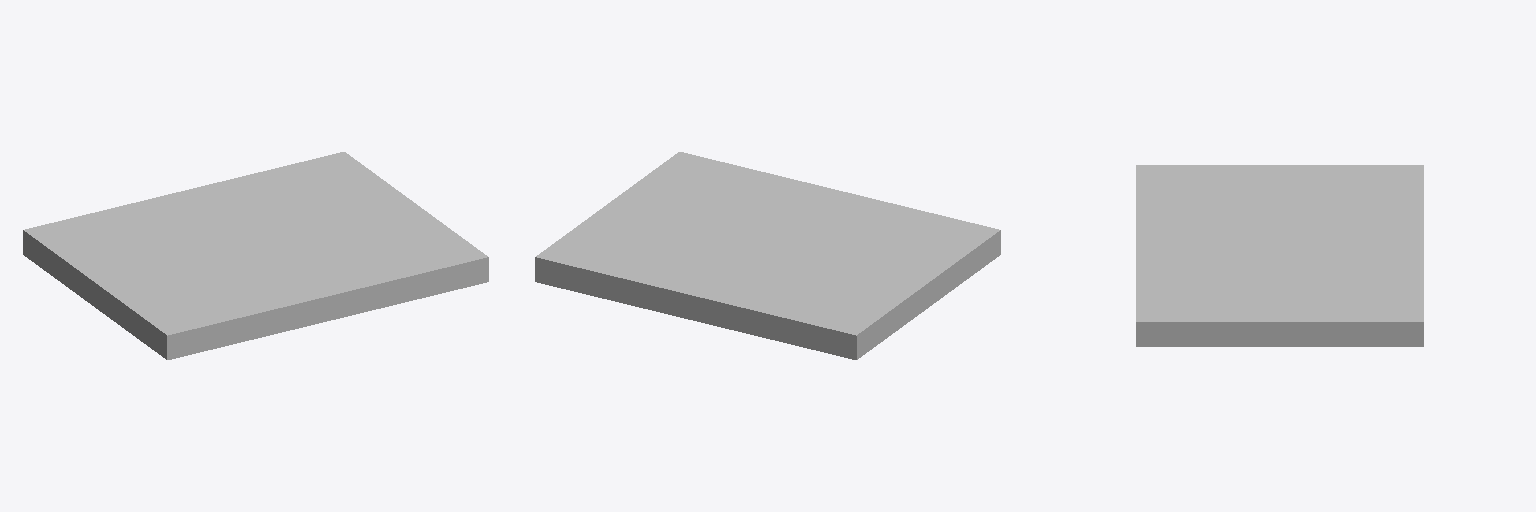
File: paper.obj
3 renders of one model, left to right at view 1: azimuth 30°, elevation 25°; view 2: azimuth 150°, elevation 25°; view 3: azimuth 270°, elevation 25°, orthographic.
Parts seen in each view (by area): view 1: object 1; view 2: object 1; view 3: object 1.
Boxes of the visible parts, <box> form: object 1: <box>23,152,488,359</box>; object 1: <box>535,152,1000,359</box>; object 1: <box>1136,165,1423,346</box>.
Bounding box in the file's own units: 2.7 × 0.2 × 2.1.